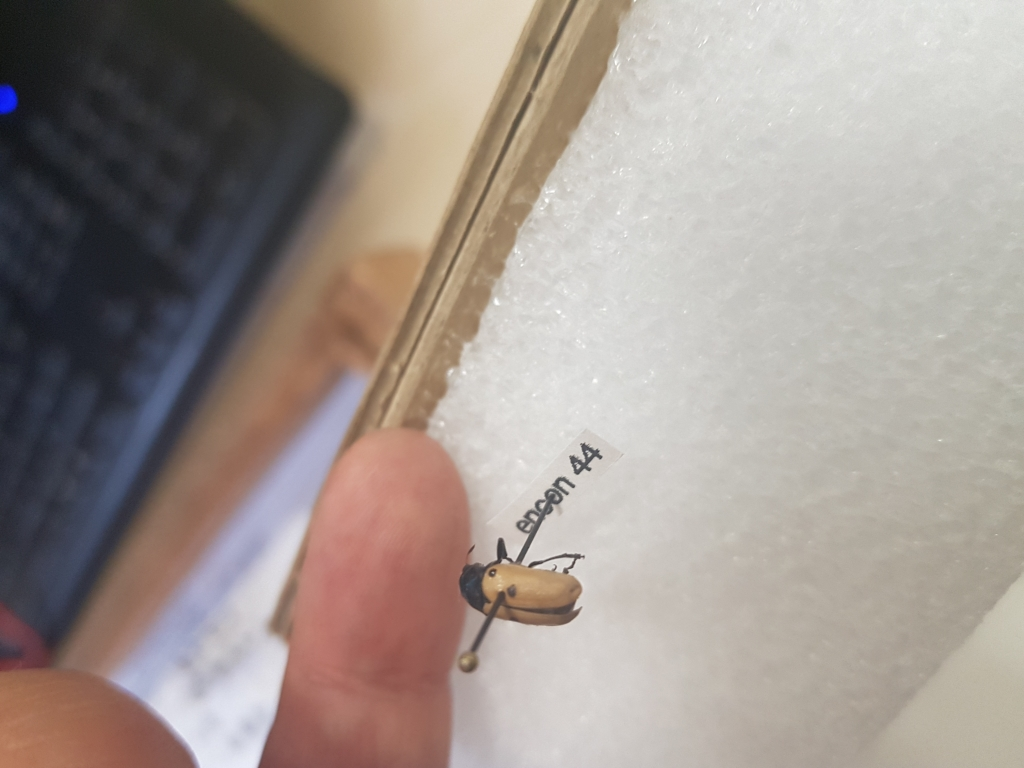Labidostomis_maculipennis: (458, 535, 589, 634)
